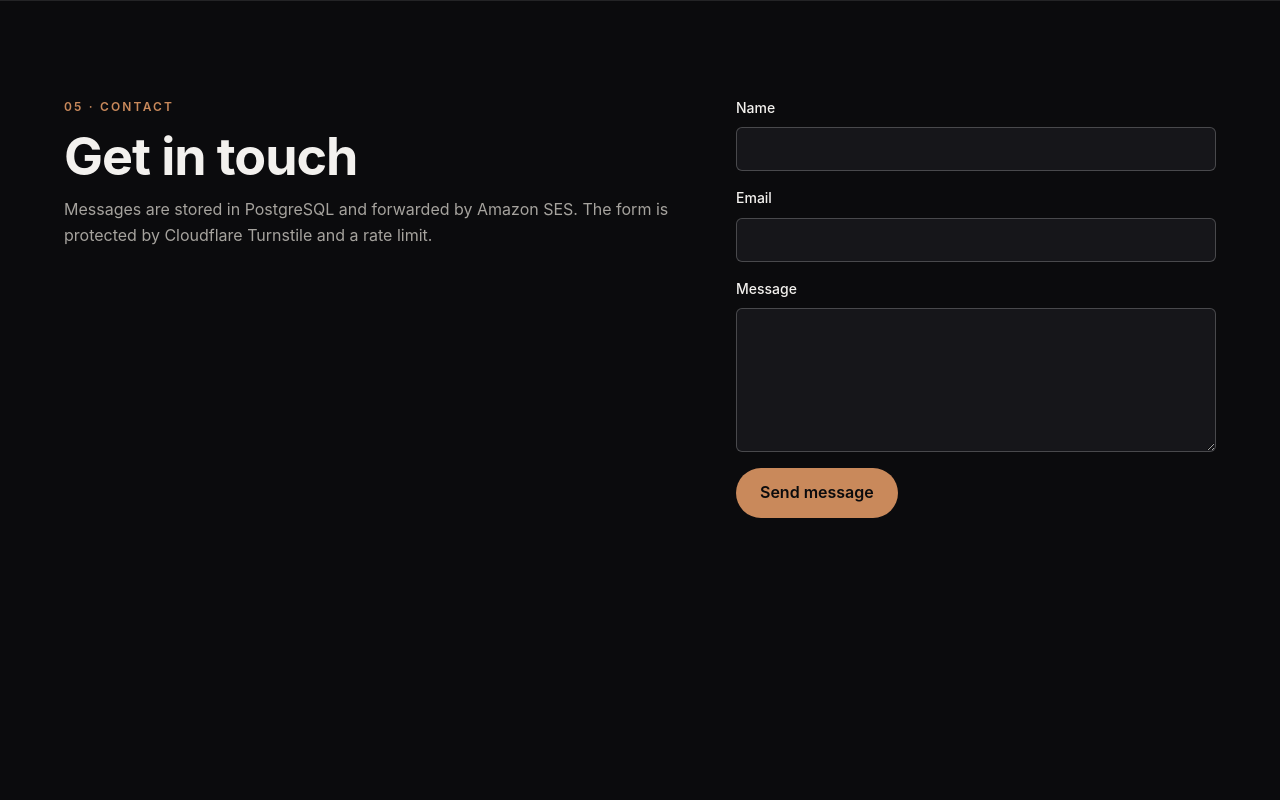
Scenario: Contact › sends the form and shows a confirmation
Type "Ada" into the field labelled "Name".
click(976, 149); type("Ada")  # box [736,127,1216,171]
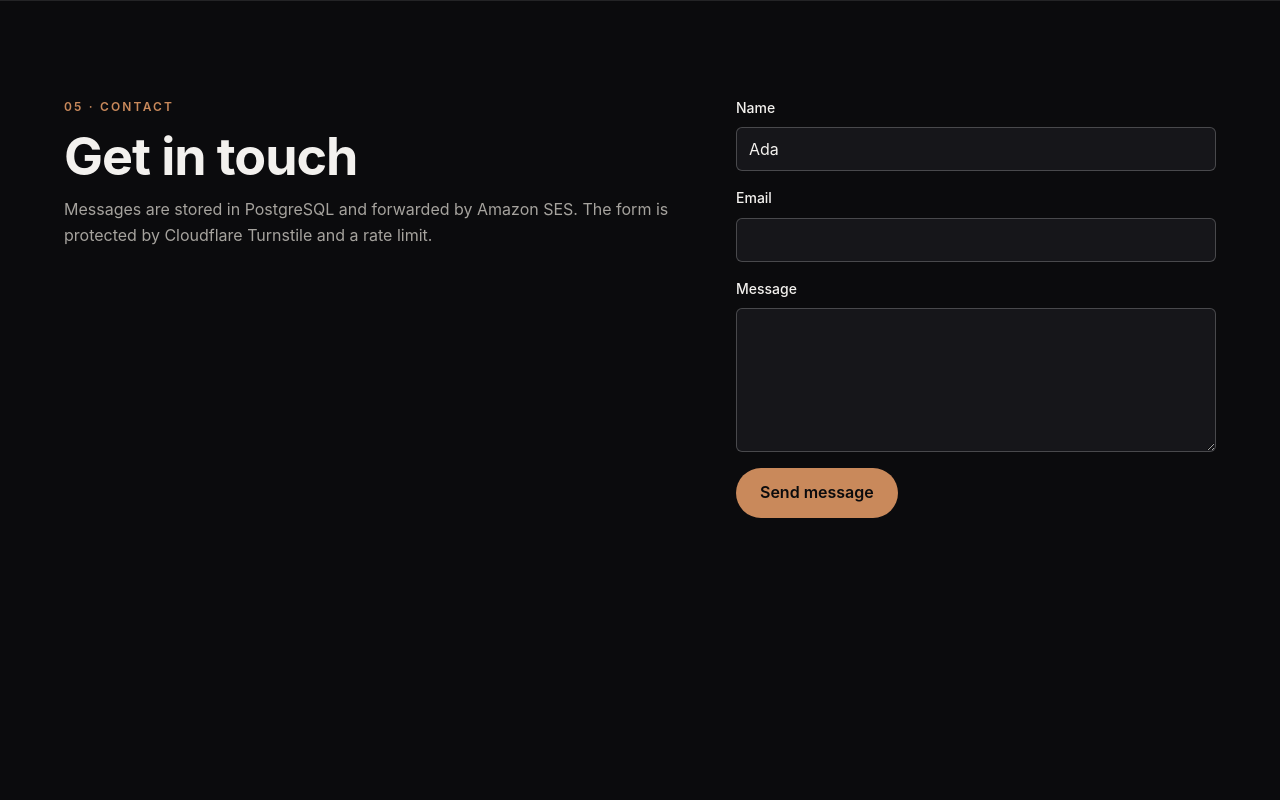
Type "ada@example.com" into the field labelled "Email".
click(976, 240); type("ada@example.com")  # box [736,218,1216,262]
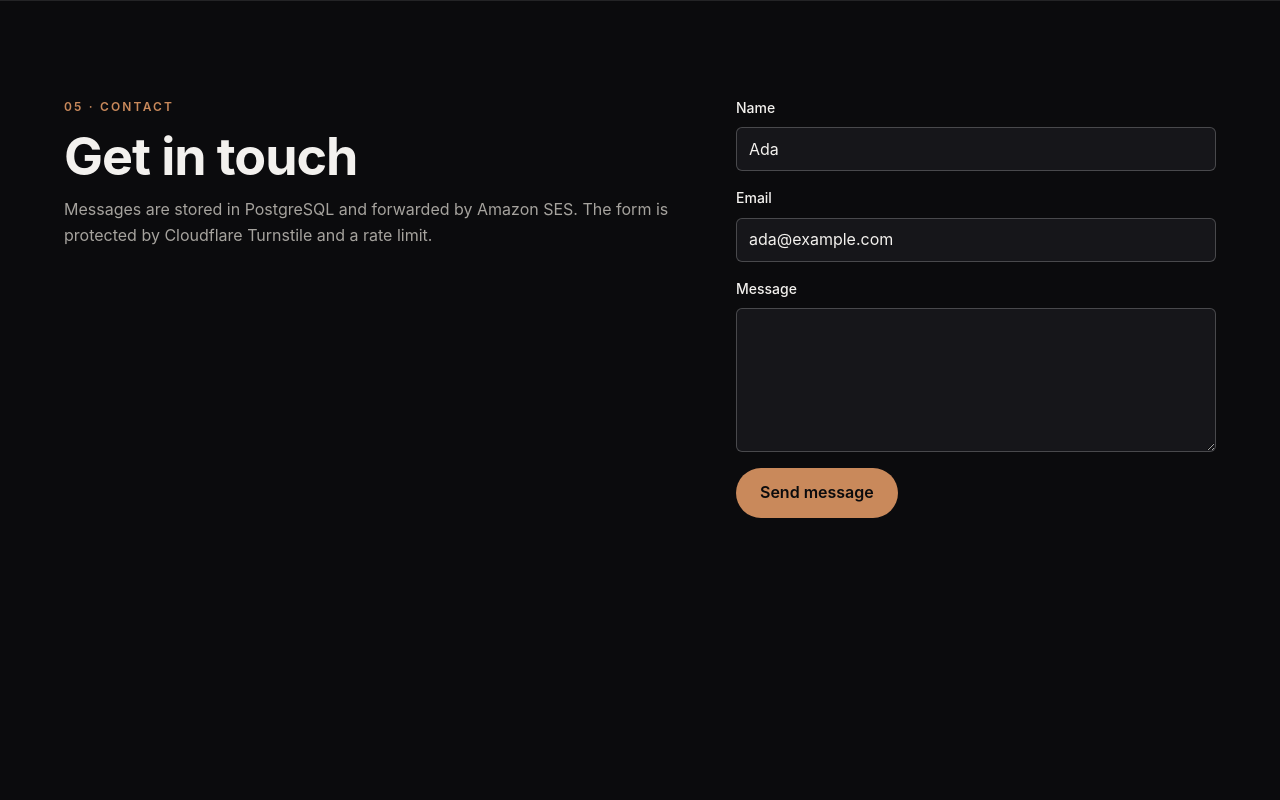
Type "Hello there, nice site!" into the text box labelled "Message".
click(976, 380); type("Hello there, nice site!")  # box [736,308,1216,452]
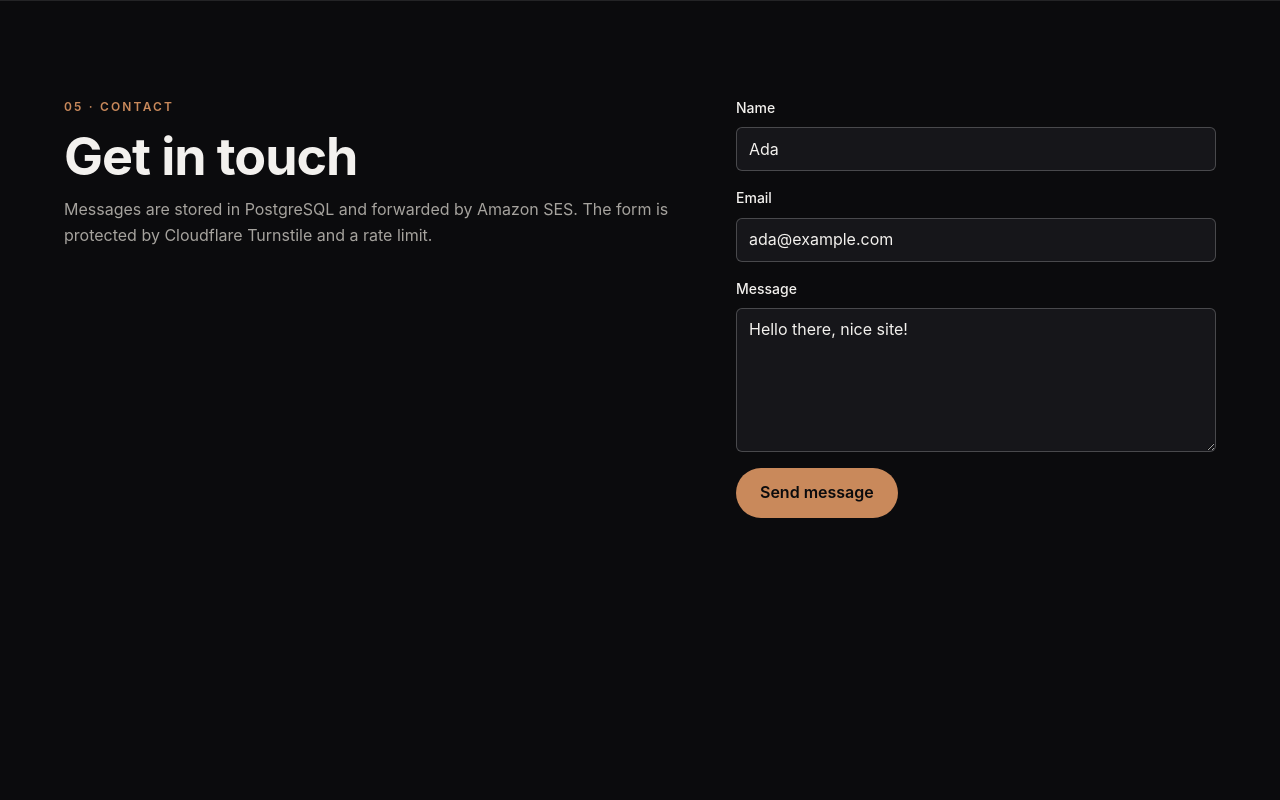
Click the button "Send message".
click(817, 493)  # box [736,468,898,518]
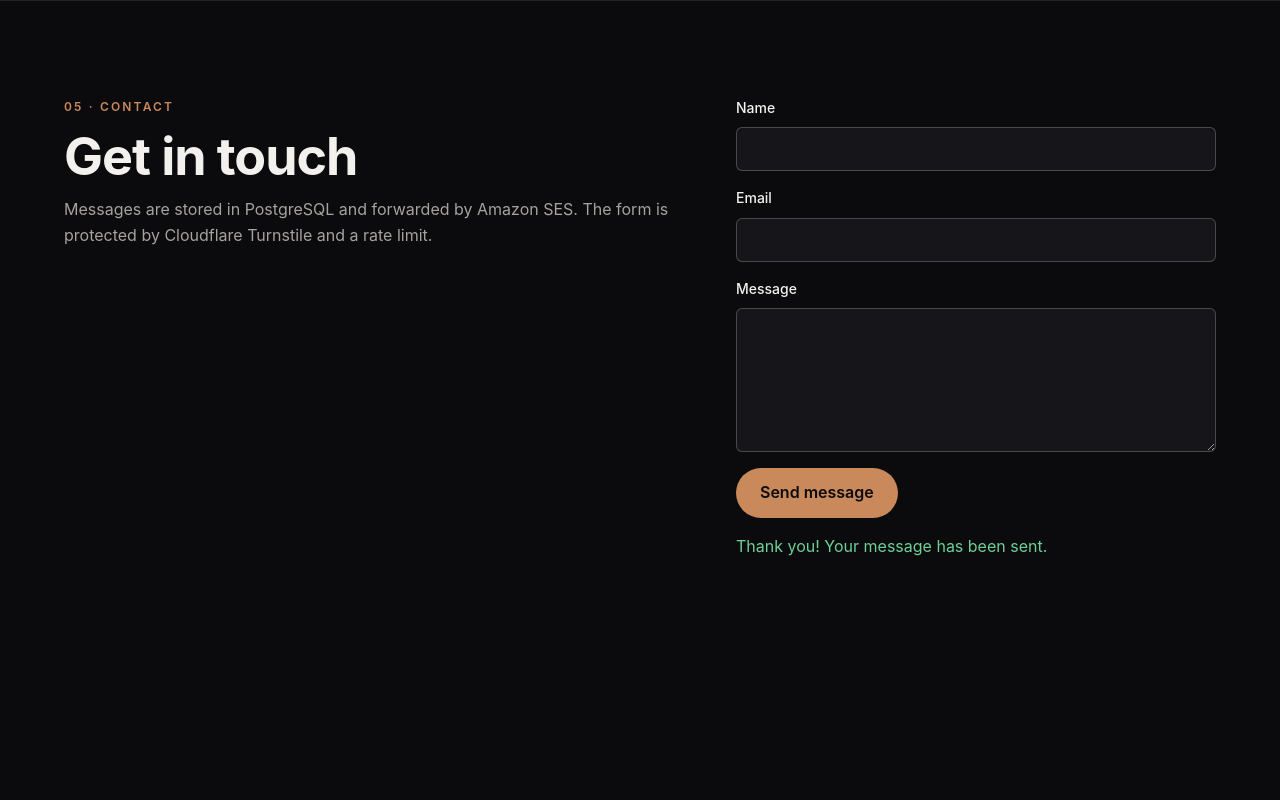
expect the text "Thank you! Your message has been sent." is shown: met, box [736,536,1047,556]
expect the field labelled "Name" is empty: met, box [736,127,1216,171]
